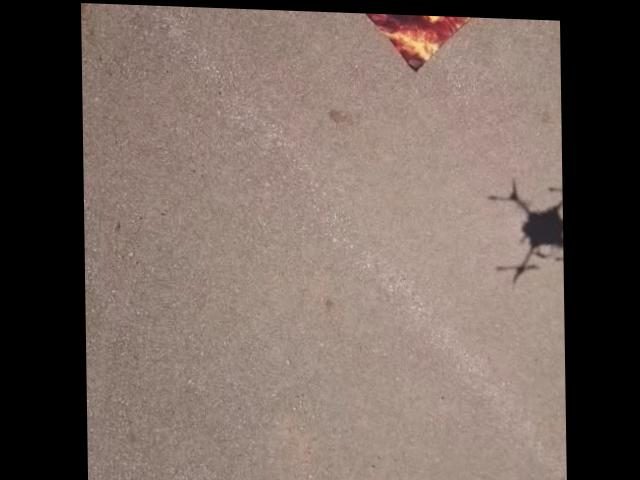fire-poster: (342, 10, 506, 72)
